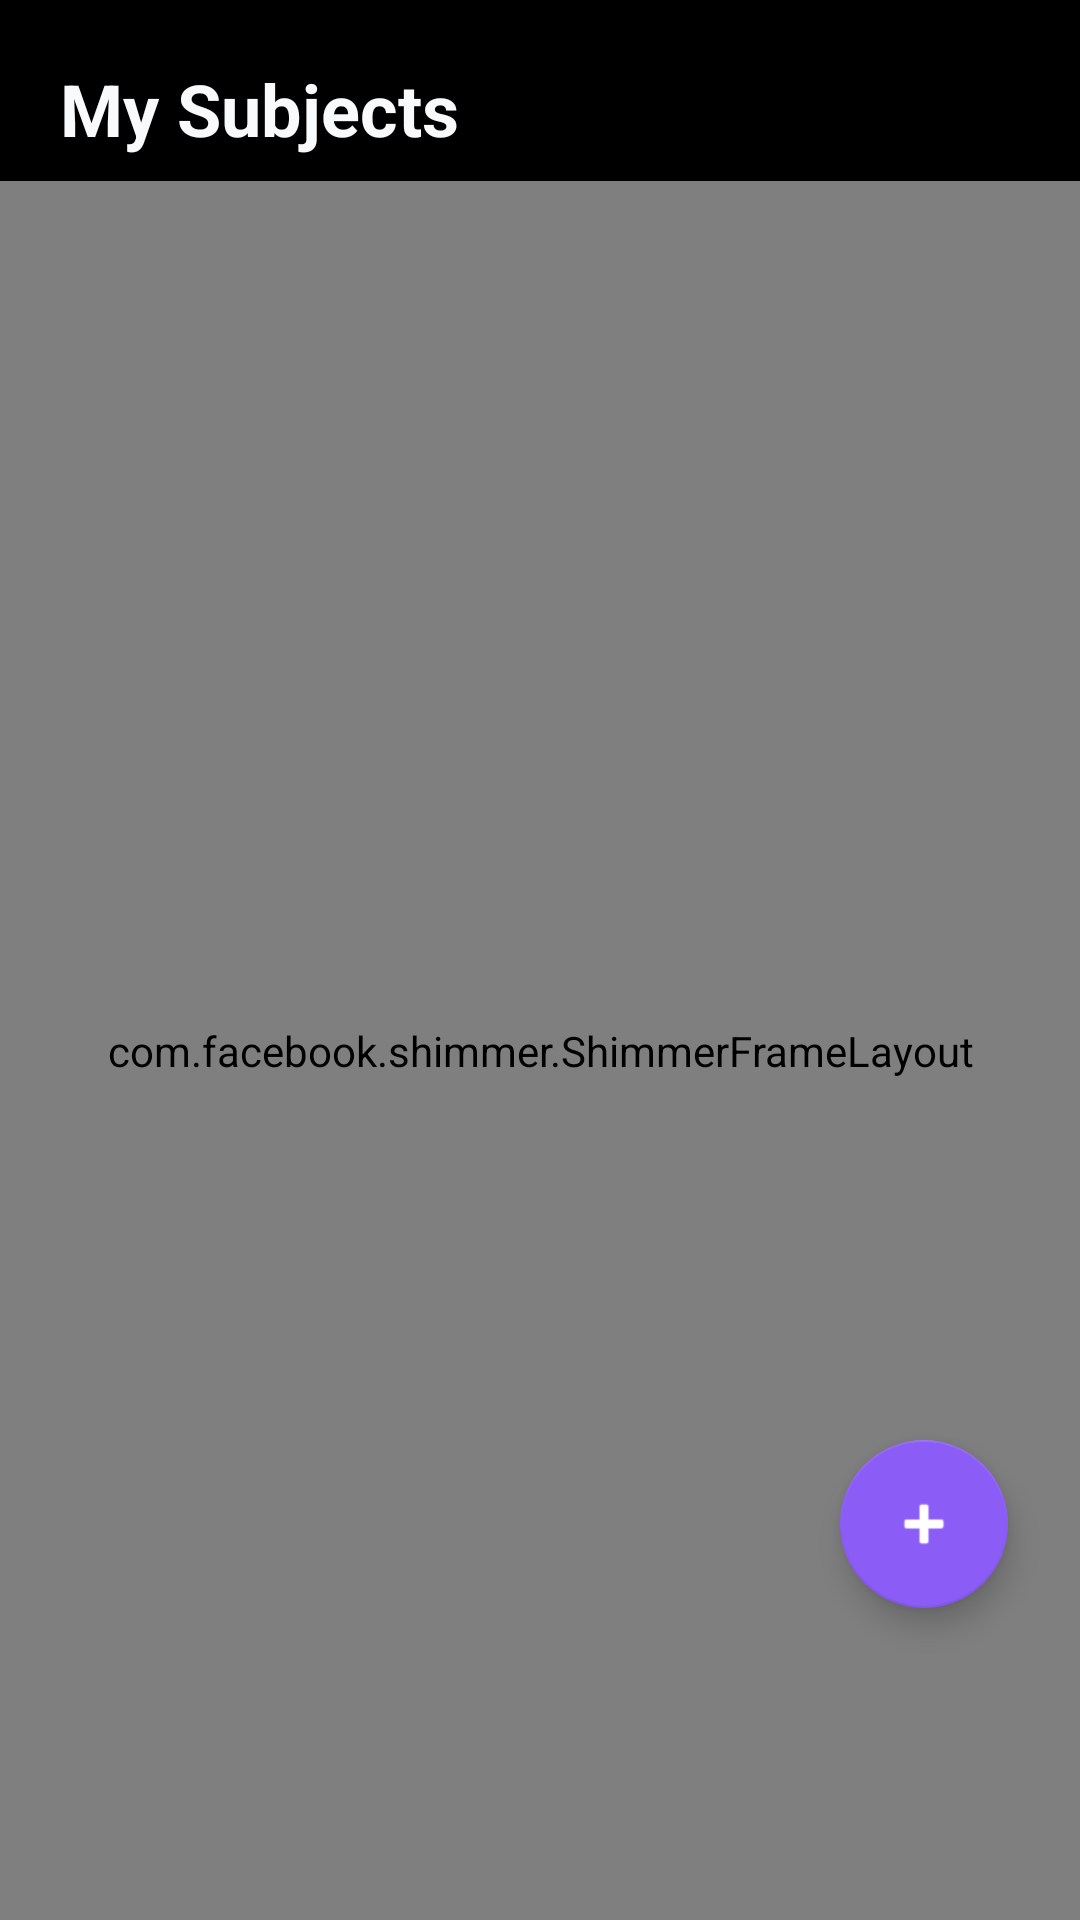

Point at icon controls on the screen. Image size 1080 × 1920, points as [x,y].
add: [924,1524]
